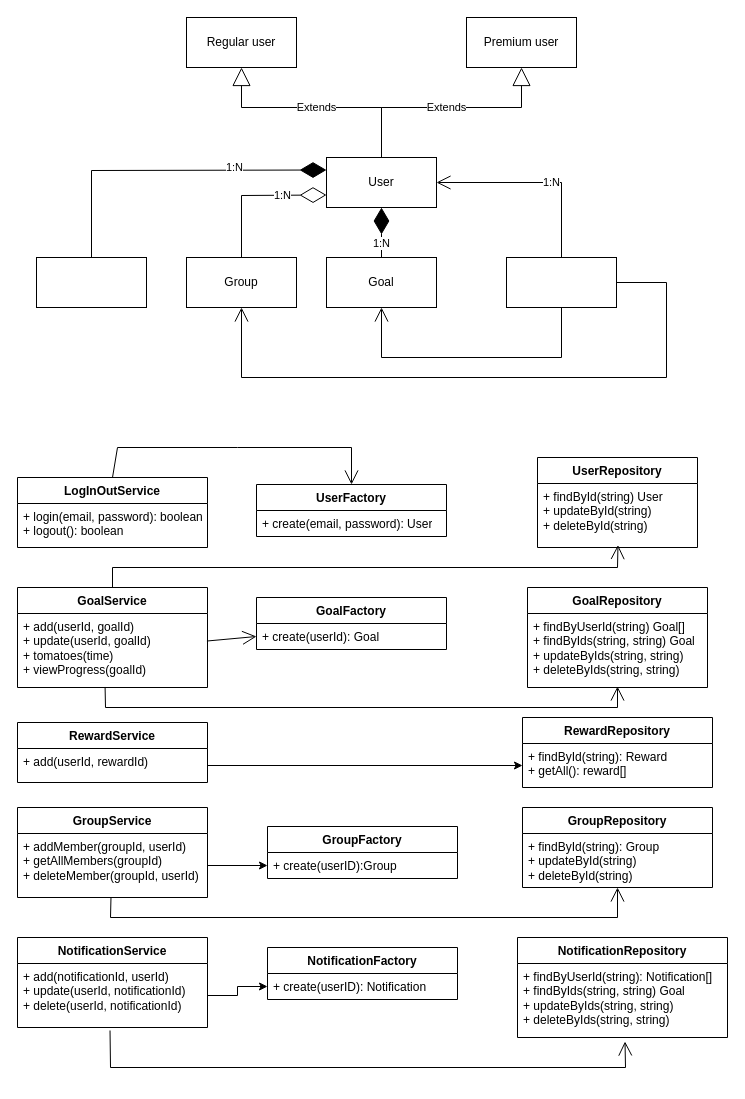
The diagram is 745 pixels wide and 1099 high, and some of its shapes have lost their labels. The centre of each missing label's shape, as x and y in pixels:
"Notification" goes at pixel 91 282.
"Reward" goes at pixel 561 282.
